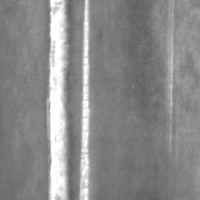scratches: (45, 0, 71, 199), (77, 0, 92, 199), (165, 0, 176, 160)
